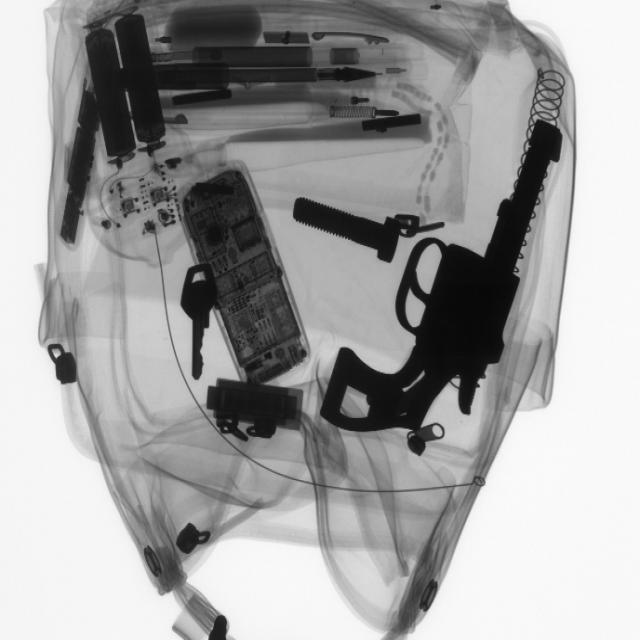GUN: (316, 142, 565, 438)
